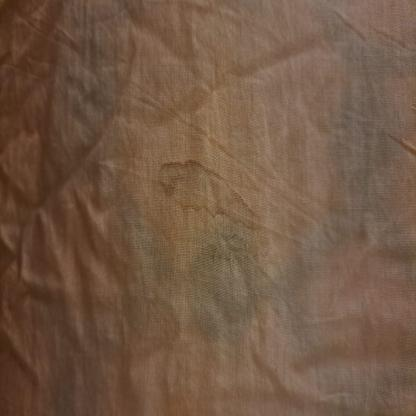spot: (158, 150, 265, 240)
